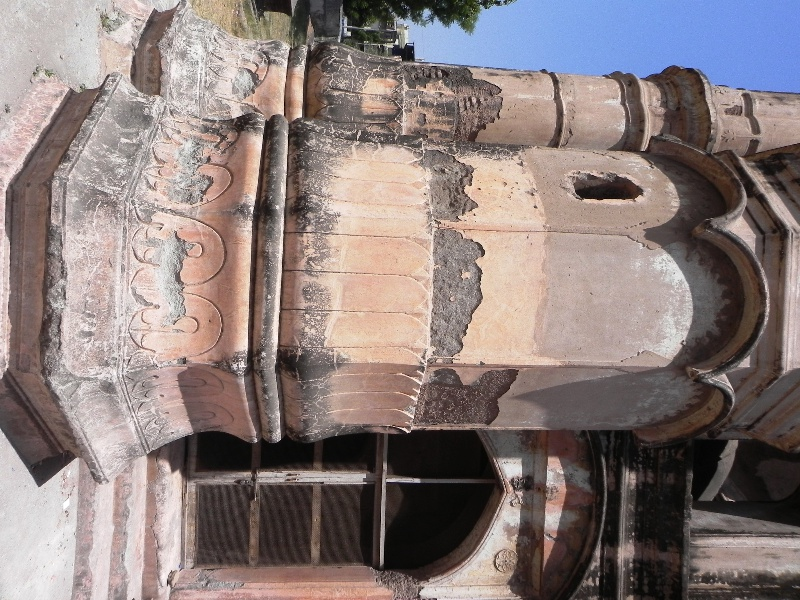Exposed Bricks: (457, 94, 489, 108), (412, 66, 444, 77)
Spalling: (433, 224, 484, 362), (425, 364, 517, 429), (421, 149, 479, 221), (159, 234, 189, 322)
